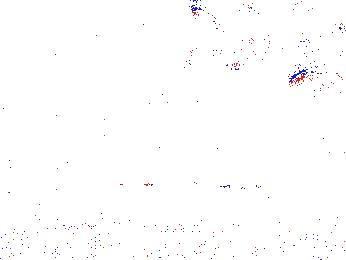moon jellyfish: (285, 66, 346, 137), (142, 59, 193, 141), (223, 7, 271, 70), (287, 1, 346, 44), (184, 9, 227, 67)
